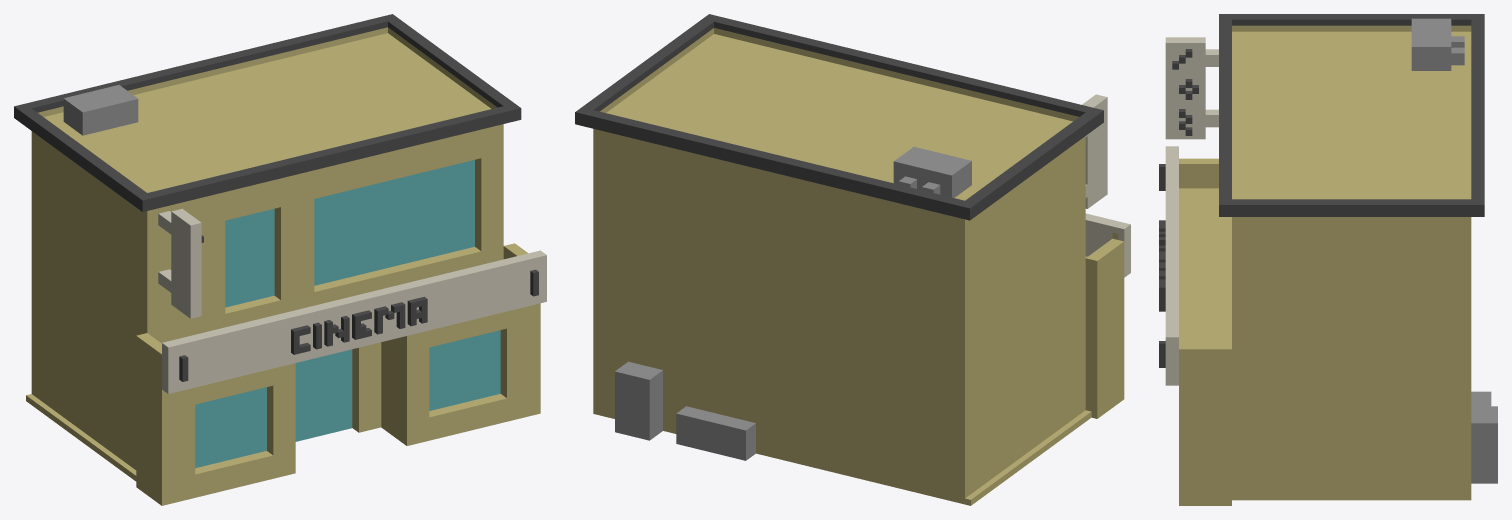
File: Building12.fbx
3 views of the same model, side by side, from view 1: azimuth 30°, elevation 25°; view 2: azimuth 150°, elevation 25°; view 3: azimuth 270°, elevation 25° (orthographic). The views are drawn at different scales.
Visible parts, largest first — view 1: ObjObject.015; view 2: ObjObject.015; view 3: ObjObject.015.
Part boxes in pixels (left/top/right/bottom): ObjObject.015: left=14, top=14, right=546, bottom=505; ObjObject.015: left=575, top=14, right=1130, bottom=505; ObjObject.015: left=1159, top=14, right=1497, bottom=505.
Bounding box in the file's own units: 680 × 510 × 520.
1 material, 1 textured.
